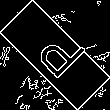P_SW: (24, 24, 86, 86)
